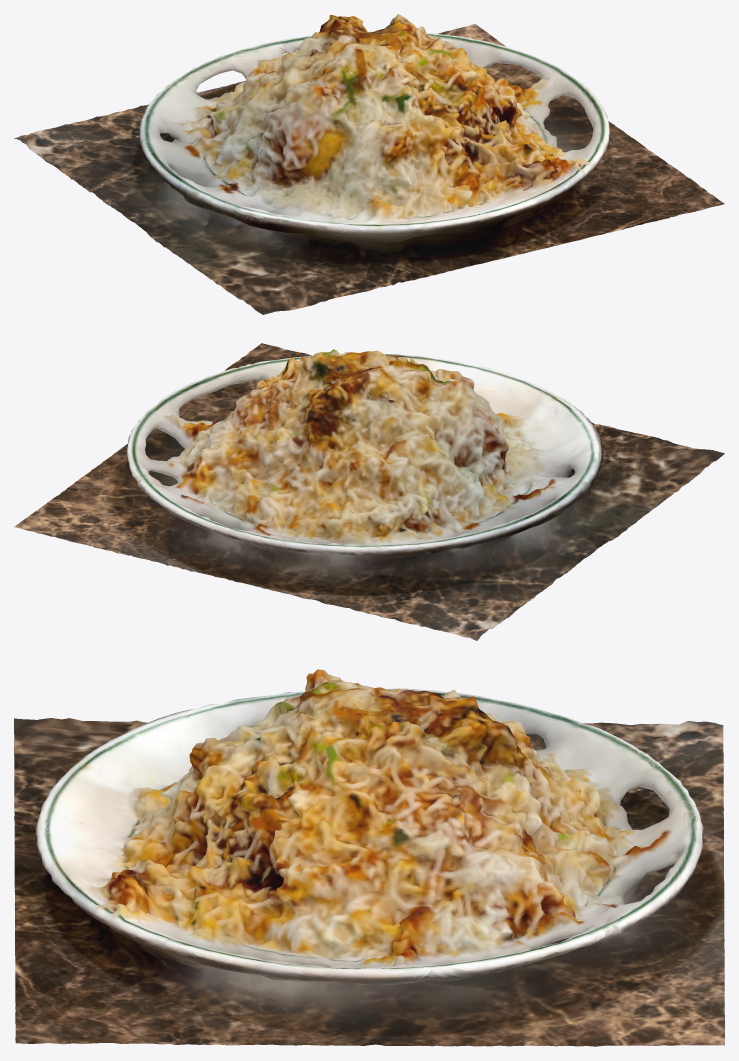
Rendered from biryani.glb.
3 views of the same model, one above another, from view 1: azimuth 30°, elevation 25°; view 2: azimuth 150°, elevation 25°; view 3: azimuth 270°, elevation 25° (orthographic). The views are drawn at different scales.
Visible parts, largest first — view 1: bili_0; view 2: bili_0; view 3: bili_0.
Part boxes in pixels (left/top/right/bottom): bili_0: left=14, top=14, right=724, bottom=314; bili_0: left=14, top=343, right=724, bottom=640; bili_0: left=14, top=669, right=724, bottom=1046.
Bounding box in the file's own units: 0.2974 × 0.0845 × 0.2769.
Materials: 1 (1 with a texture image).
